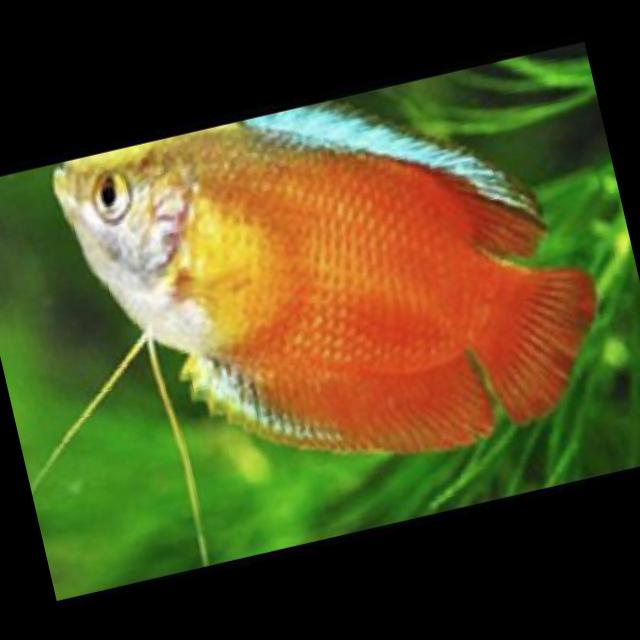Gourami: (39, 49, 622, 516)
